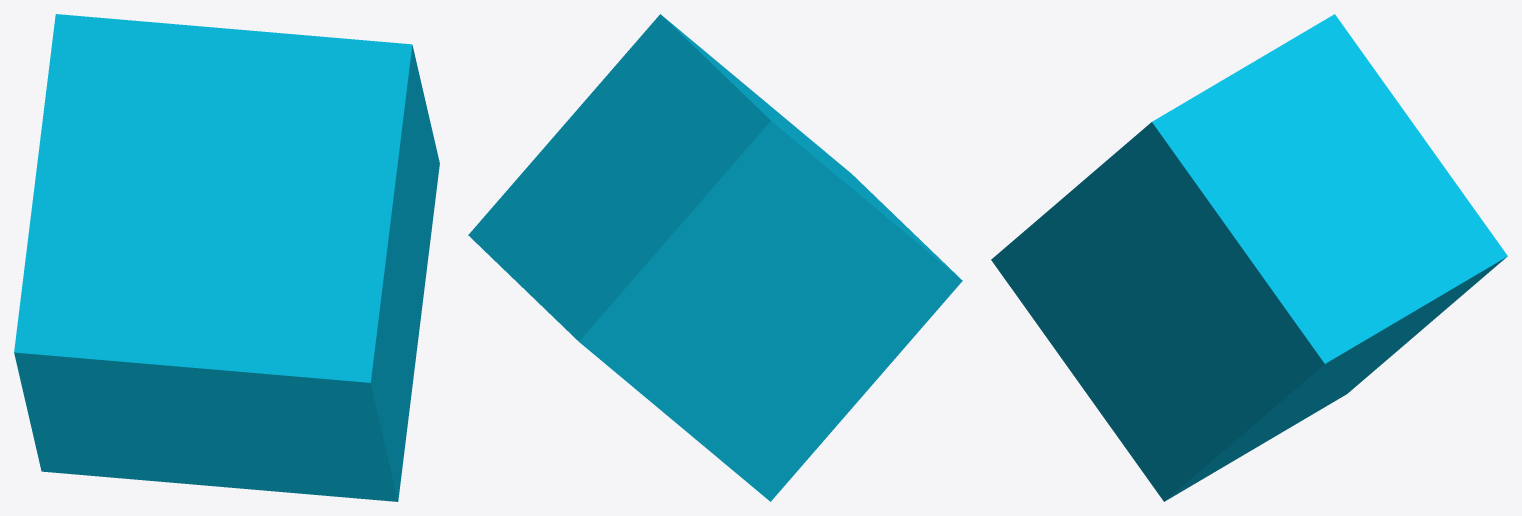
Rendered from cube_switch.fbx.
3 views of the same model, side by side, from view 1: azimuth 30°, elevation 25°; view 2: azimuth 150°, elevation 25°; view 3: azimuth 270°, elevation 25° (orthographic). The views are drawn at different scales.
Visible parts, largest first — view 1: pCube3; view 2: pCube3; view 3: pCube3.
Part boxes in pixels (left/top/right/bottom): pCube3: left=14, top=14, right=439, bottom=501; pCube3: left=468, top=14, right=962, bottom=501; pCube3: left=991, top=14, right=1507, bottom=501.
Size of the model in its own units: 3.51 by 3.06 by 3.67.
